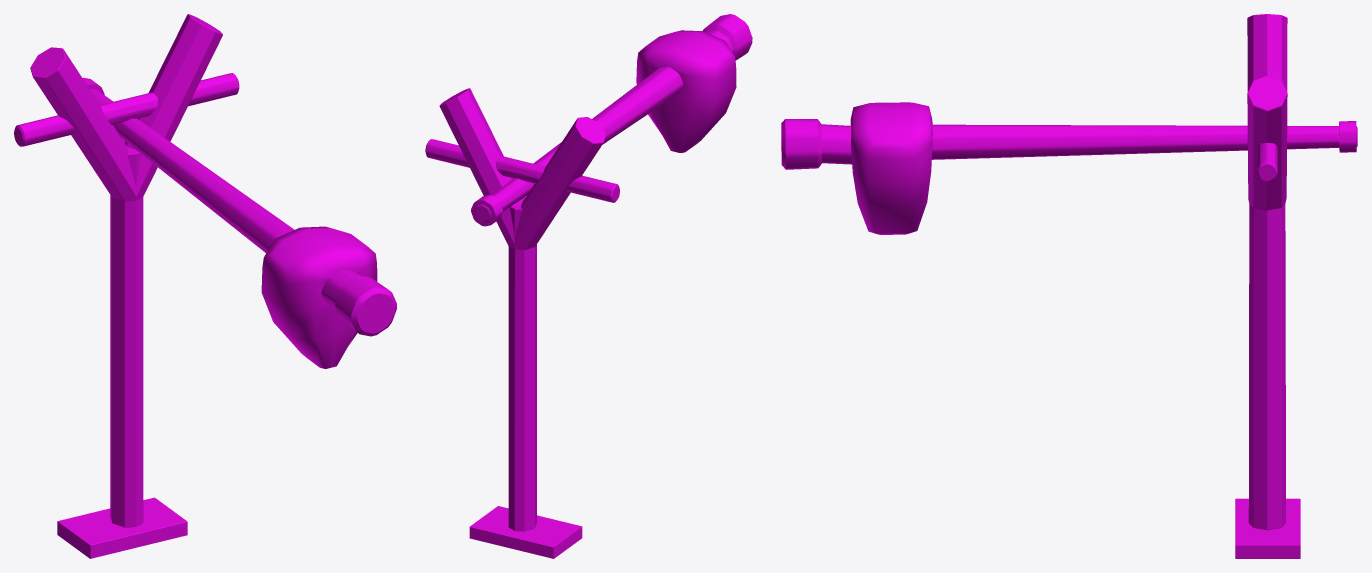
File: OBSTACLE.fbx
The picture shows the model from 3 angles, left to right: view 1: azimuth 30°, elevation 25°; view 2: azimuth 150°, elevation 25°; view 3: azimuth 270°, elevation 25°; orthographic projection. The views are drawn at different scales.
Parts seen in each view (by area): view 1: pCylinder8, pCube3, pCube2; view 2: pCylinder8, pCube3, pCube2; view 3: pCube3, pCylinder8, pCube2.
Boxes of the visible parts, bbox=[...] form: pCylinder8: bbox=[14, 14, 239, 527]; pCube3: bbox=[82, 77, 396, 368]; pCube2: bbox=[57, 497, 187, 558]; pCylinder8: bbox=[425, 88, 619, 531]; pCube3: bbox=[471, 14, 752, 226]; pCube2: bbox=[469, 506, 582, 558]; pCube3: bbox=[781, 102, 1357, 234]; pCylinder8: bbox=[1247, 14, 1287, 530]; pCube2: bbox=[1235, 498, 1300, 558].
Bounding box in the file's own units: 189 × 418 × 444.
